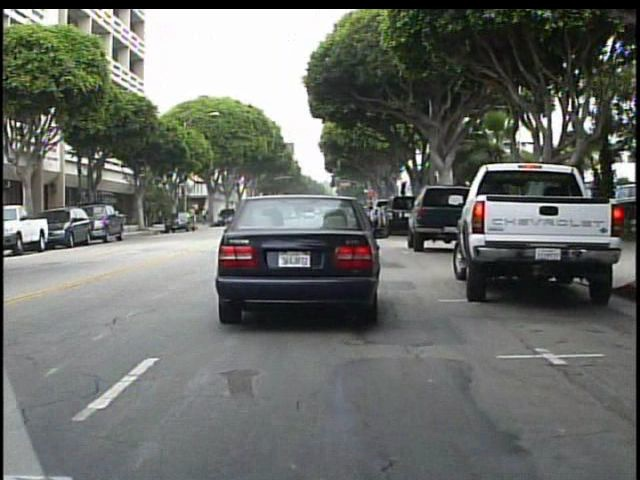person: (187, 204, 199, 229), (200, 203, 211, 227)
